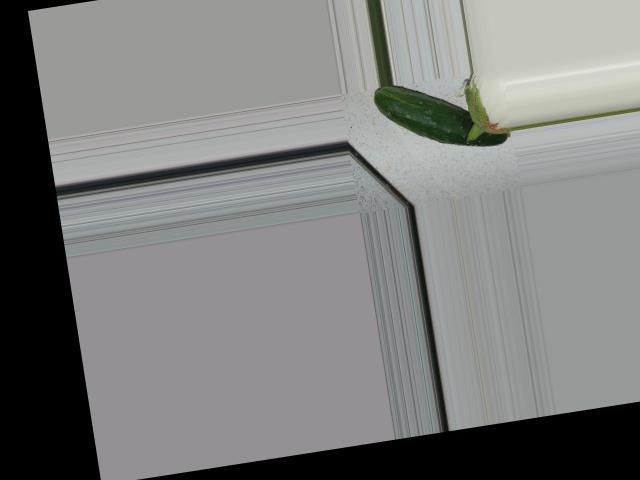cucumber: (371, 68, 511, 162)
